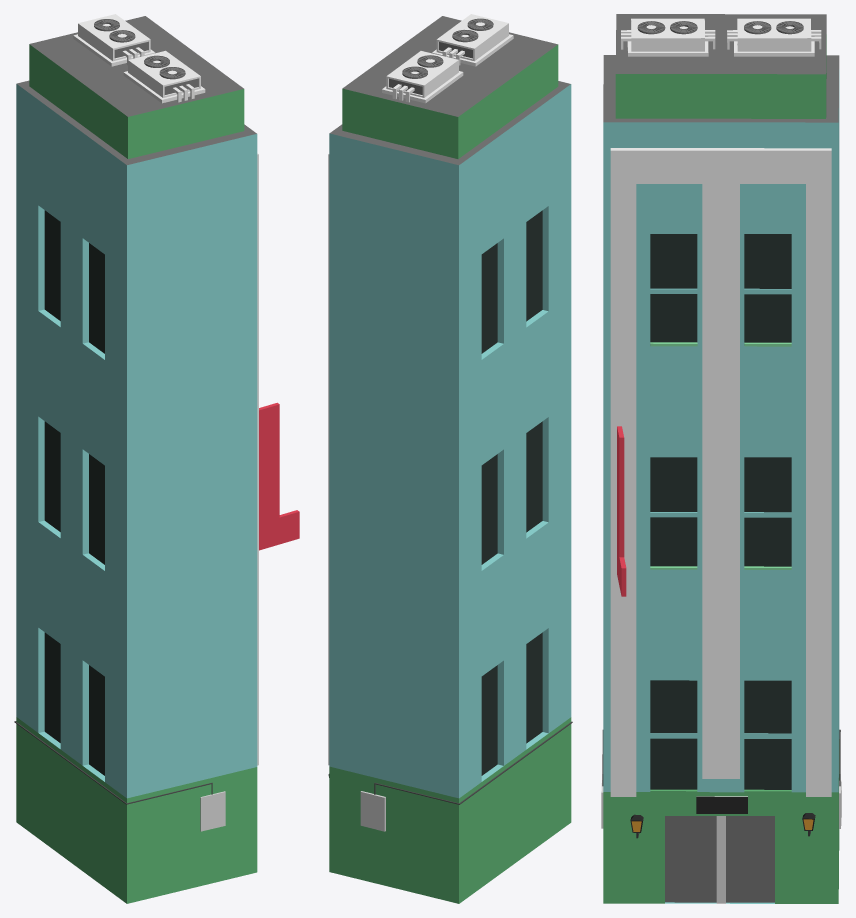
Rendered from Building_13_tran.glb.
The picture shows the model from 3 angles, left to right: view 1: azimuth 30°, elevation 25°; view 2: azimuth 150°, elevation 25°; view 3: azimuth 270°, elevation 25°; orthographic projection. The views are drawn at different scales.
Visible parts, largest first — view 1: Cube.13878, Cube.13882, Cube.13881, Cube.13879; view 2: Cube.13878, Cube.13881, Cube.13882, Cube.13879; view 3: Cube.13878, Cube.13879, Cube.13882, Cube.13881.
Part boxes in pixels (box(x1,y1,x2,y2)): Cube.13878: box(14, 16, 299, 903); Cube.13882: box(123, 50, 205, 103); Cube.13881: box(73, 14, 155, 66); Cube.13879: box(257, 153, 258, 765); Cube.13878: box(328, 16, 572, 903); Cube.13881: box(382, 51, 463, 103); Cube.13882: box(432, 14, 513, 66); Cube.13879: box(328, 154, 329, 765); Cube.13878: box(601, 14, 841, 903); Cube.13879: box(610, 148, 831, 796); Cube.13882: box(621, 18, 715, 56); Cube.13881: box(727, 18, 821, 56).
Bounding box in the file's own units: 0.1575 × 0.66 × 0.17.
